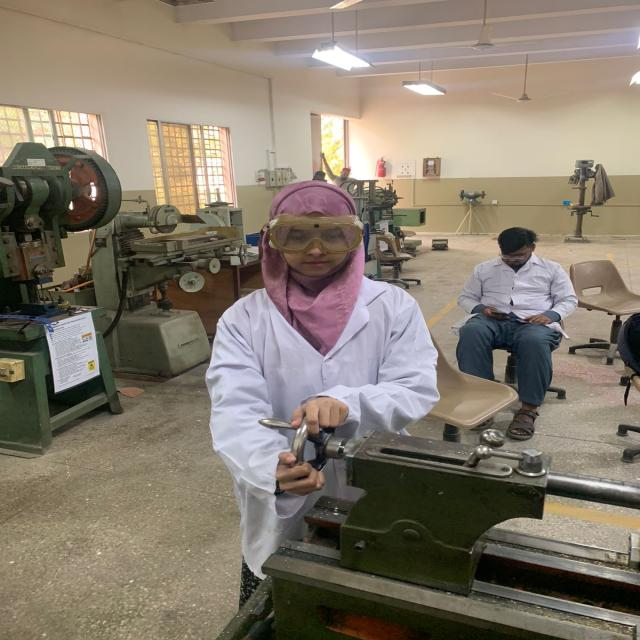googles: (256, 210, 368, 257)
labcoat: (201, 271, 443, 583), (458, 253, 574, 342)
